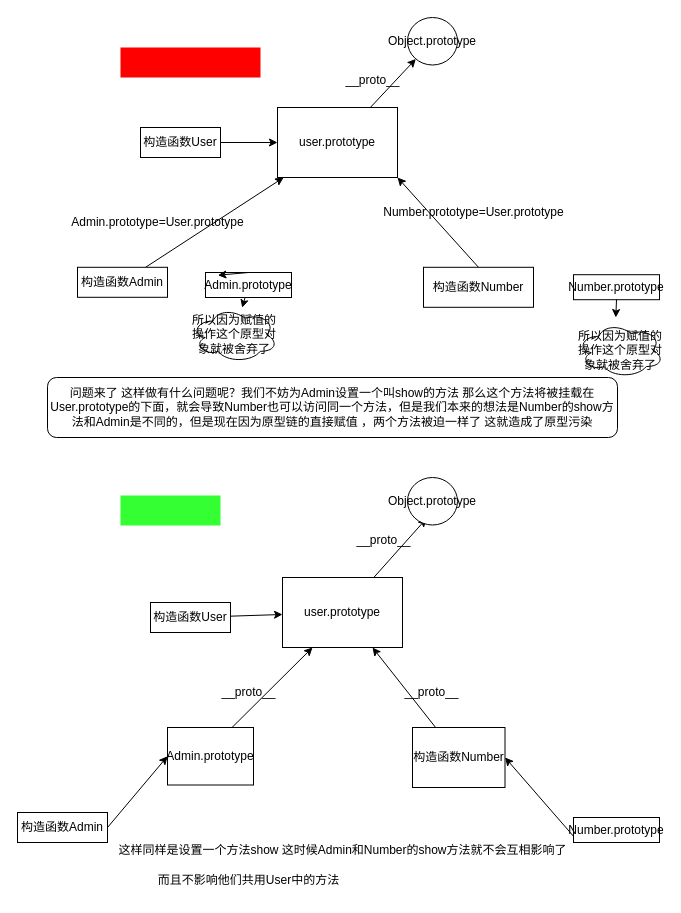
This 681x913 diagram has some shape labels left out. Here are the shapes that lost their labels. From the top down, the box of each, then its label:
(120, 47, 260, 77): 错误方法继承是这样的
(120, 495, 220, 525): 正确方法示范
